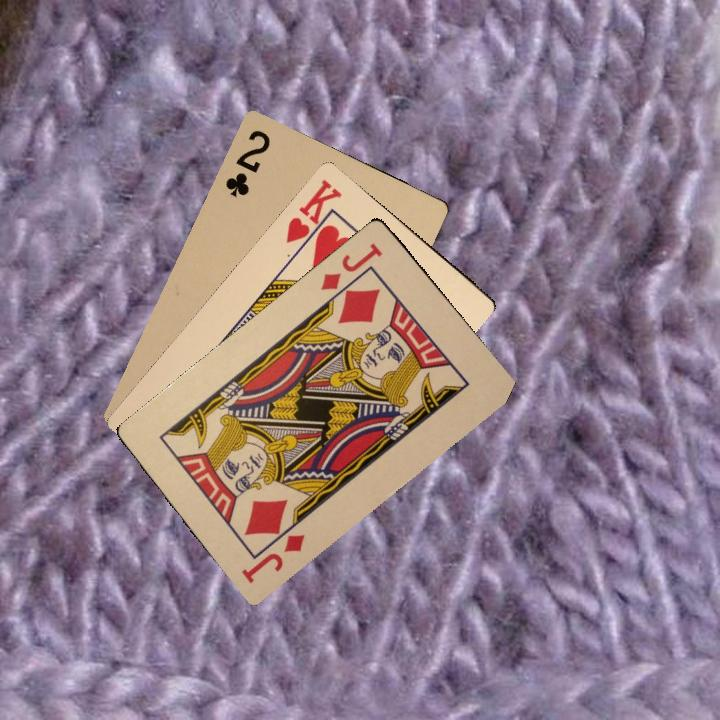2c: (221, 125, 273, 200)
Jd: (237, 530, 309, 586), (317, 239, 386, 293)
Kh: (281, 175, 345, 255)
